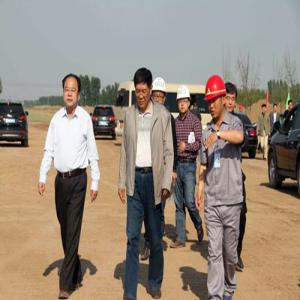none: (134, 68, 153, 108), (62, 74, 81, 110), (224, 84, 238, 114), (262, 103, 268, 115), (288, 100, 294, 111), (273, 105, 279, 114)
red: (206, 75, 227, 120)
white: (152, 77, 167, 106), (177, 86, 191, 115)
